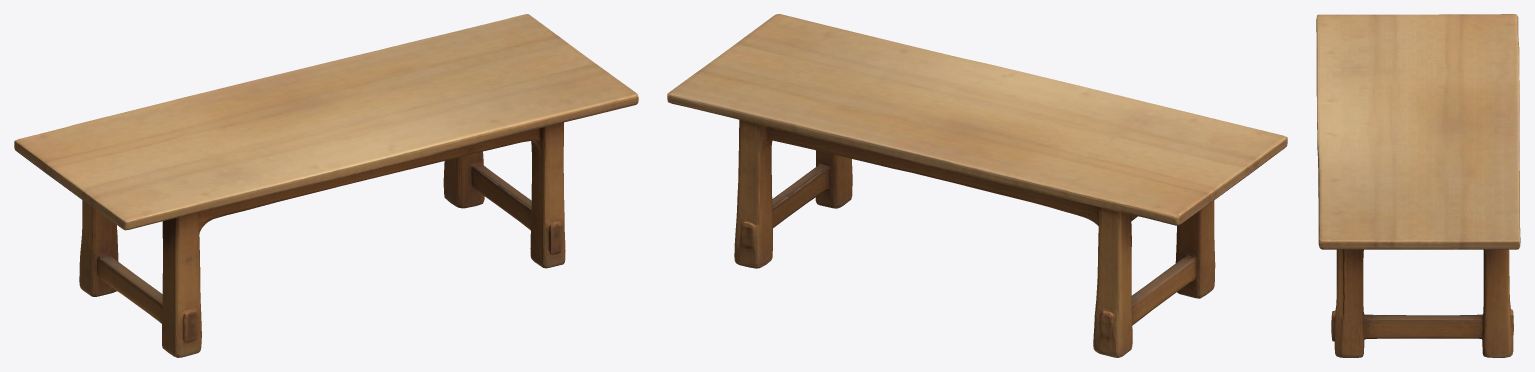
The model's file is dinetable.glb.
The picture shows the model from 3 angles, left to right: view 1: azimuth 30°, elevation 25°; view 2: azimuth 150°, elevation 25°; view 3: azimuth 270°, elevation 25°; orthographic projection. The views are drawn at different scales.
Visible parts, largest first — view 1: geometry_0; view 2: geometry_0; view 3: geometry_0.
Boxes of the visible parts, x1,y1,x2,y2 form: geometry_0: [14, 14, 638, 357]; geometry_0: [667, 14, 1287, 357]; geometry_0: [1316, 14, 1520, 357].
Bounding box in the file's own units: 1 × 0.3014 × 0.3799.
Materials: 1 (1 with a texture image).
